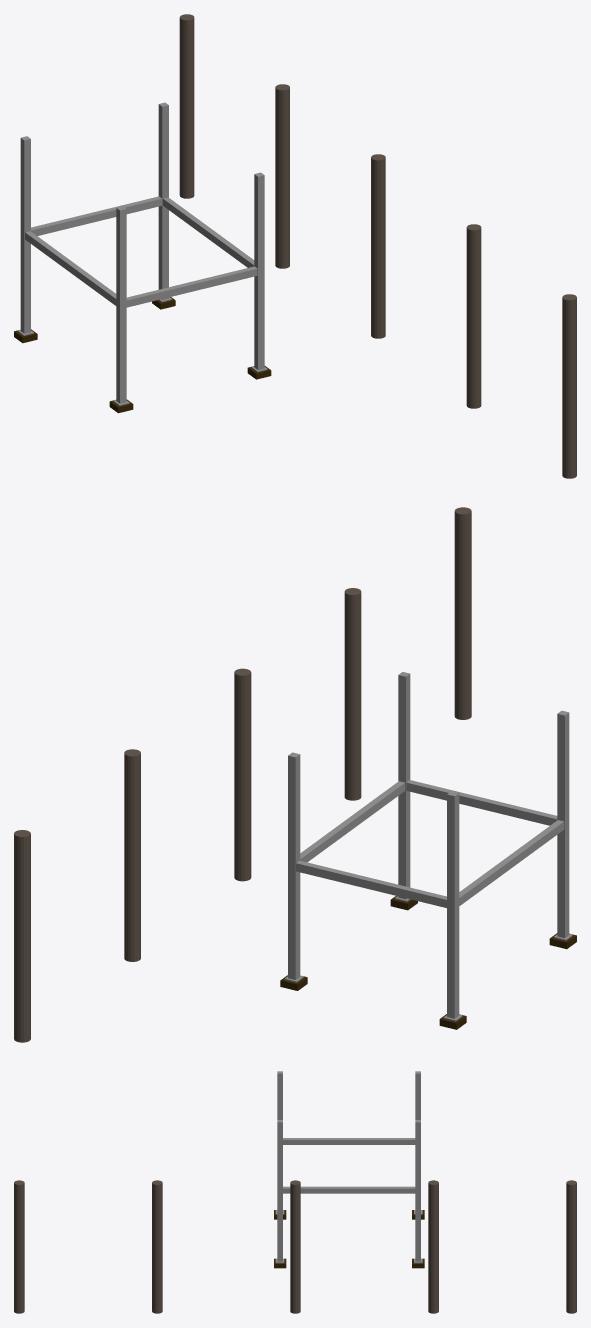
The model's file is Existing Civil Structures.glb.
3 renders of one model, top to bottom at view 1: azimuth 30°, elevation 25°; view 2: azimuth 150°, elevation 25°; view 3: azimuth 270°, elevation 25°, orthographic. The views are drawn at different scales.
Parts seen in each view (by area): view 1: Piperack Support, Column Support.001, CrossBeam, CrossBeam.001; view 2: Piperack Support, Column Support.001, CrossBeam, CrossBeam.001; view 3: Piperack Support, Column Support.001, CrossBeam.001.
Boxes of the visible parts, left/top/right/bottom form: Piperack Support: left=179, top=14, right=576, bottom=478; Column Support.001: left=14, top=102, right=271, bottom=413; CrossBeam: left=31, top=196, right=257, bottom=307; CrossBeam.001: left=25, top=197, right=254, bottom=305; Piperack Support: left=14, top=507, right=471, bottom=1042; Column Support.001: left=280, top=672, right=576, bottom=1029; CrossBeam: left=296, top=780, right=557, bottom=907; CrossBeam.001: left=300, top=781, right=564, bottom=905; Piperack Support: left=14, top=1180, right=576, bottom=1313; Column Support.001: left=274, top=1071, right=424, bottom=1268; CrossBeam.001: left=283, top=1138, right=415, bottom=1193.
Size of the model in its own units: 9.32 by 6.34 by 22.37.
